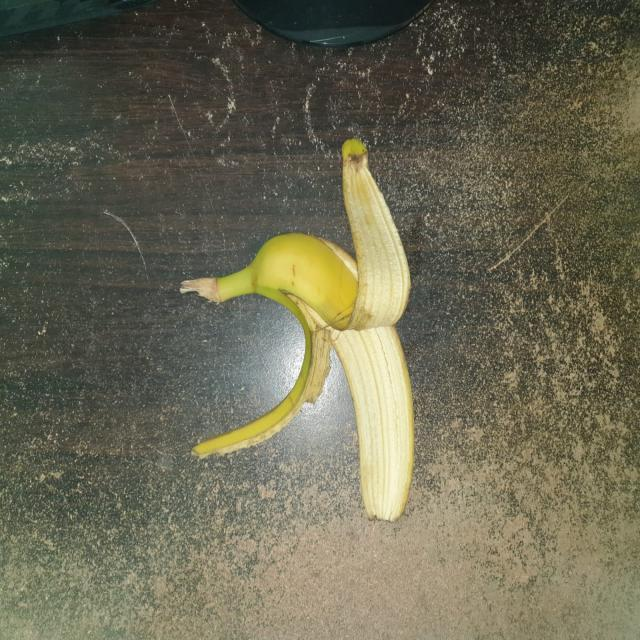banana-peel: (179, 137, 416, 522)
